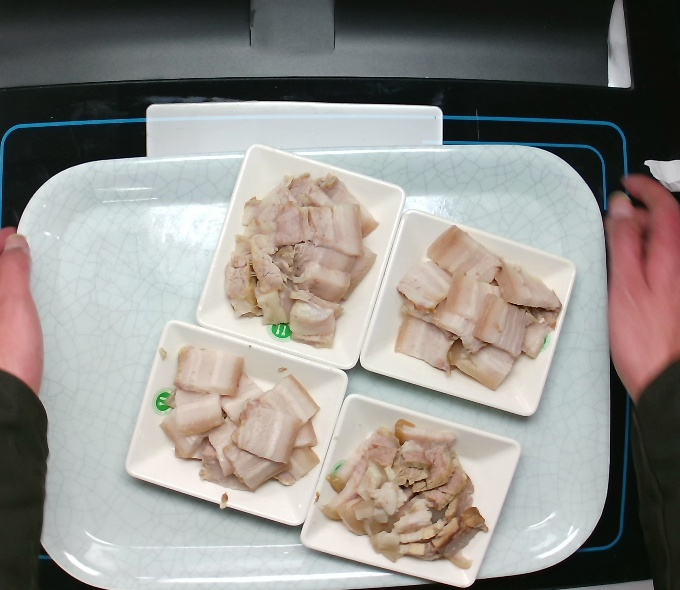wcq-BaiQieRou: (224, 171, 382, 340), (157, 347, 315, 516), (389, 222, 547, 391), (330, 410, 488, 579)
